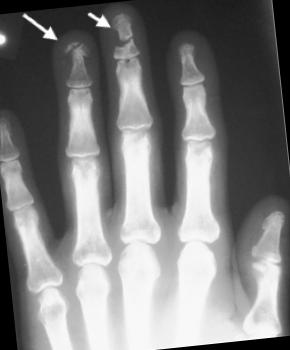fracture: (62, 40, 88, 61), (114, 34, 136, 50)
